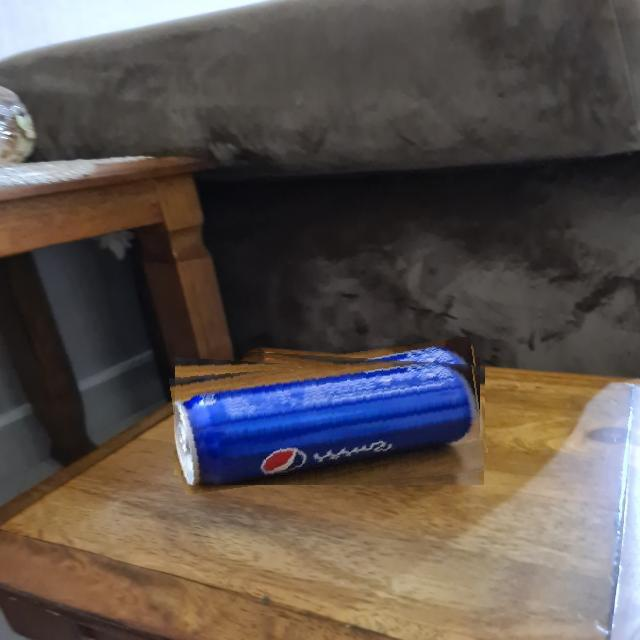recyclable: (172, 347, 485, 485)
